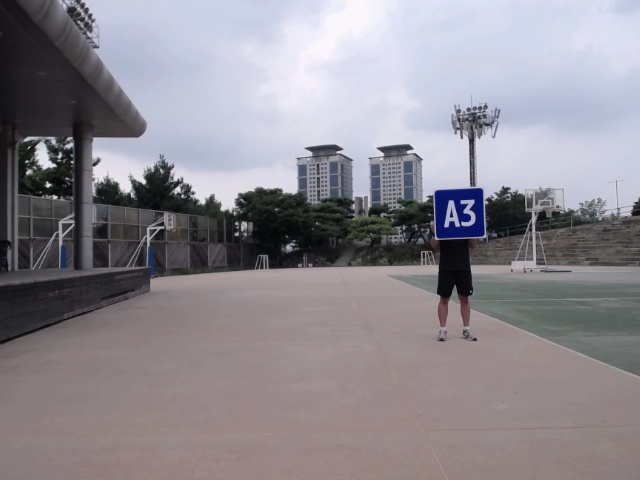delivery_a3: (434, 187, 485, 239)
